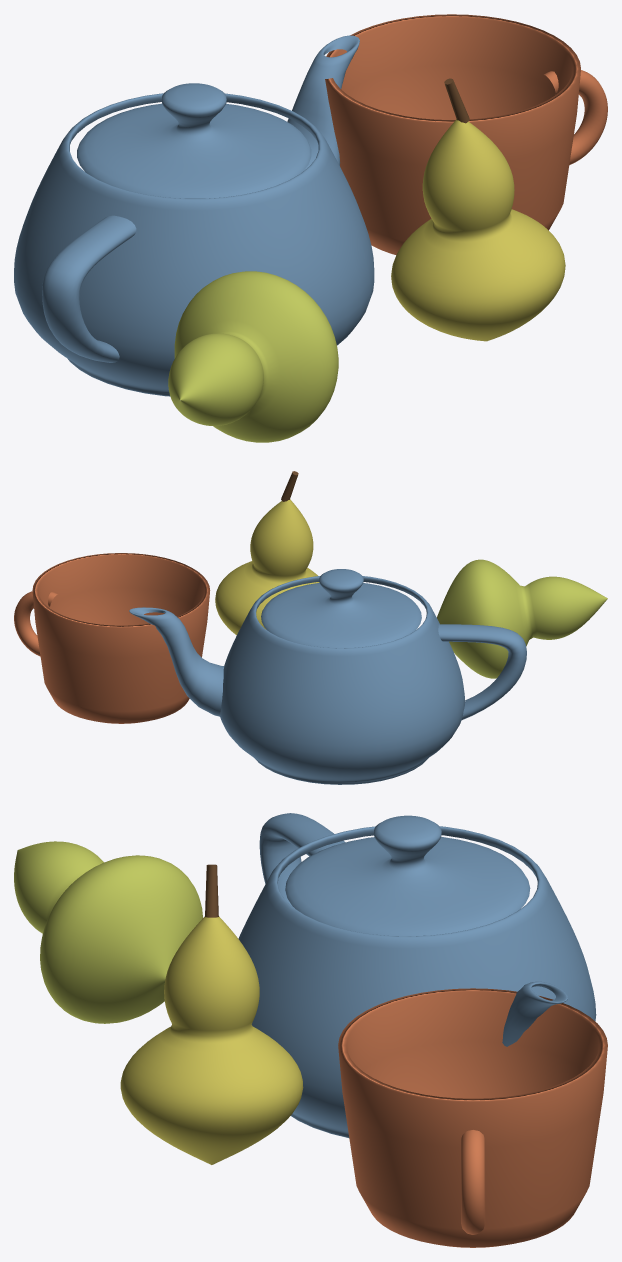
Rendered from still-life.glb.
3 renders of one model, top to bottom at view 1: azimuth 30°, elevation 25°; view 2: azimuth 150°, elevation 25°; view 3: azimuth 270°, elevation 25°, orthographic. The views are drawn at different scales.
Bounding box in the file's own units: 1.81 × 0.7908 × 1.36.
